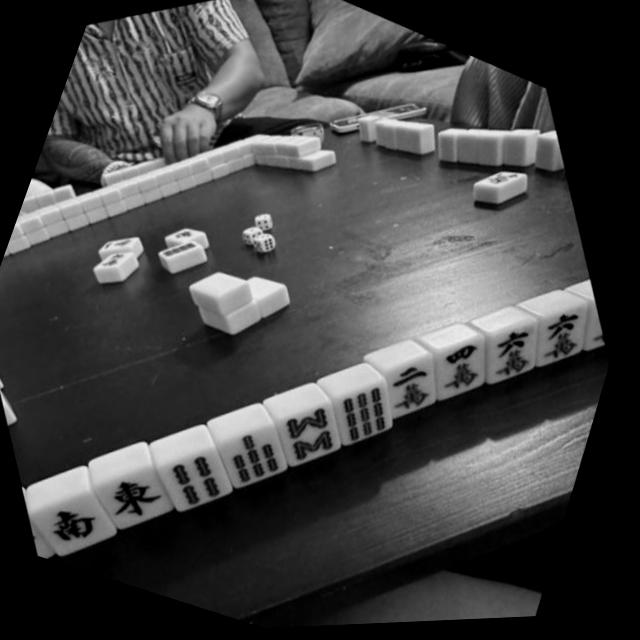hwe: (70, 433, 200, 563)
sb4: (136, 416, 260, 543)
sb7: (199, 396, 316, 516)
sb8: (256, 374, 371, 491)
sb9: (316, 359, 420, 466)
sc3: (366, 330, 468, 437)
sc4: (414, 312, 519, 420)
sc6: (461, 293, 574, 408)
